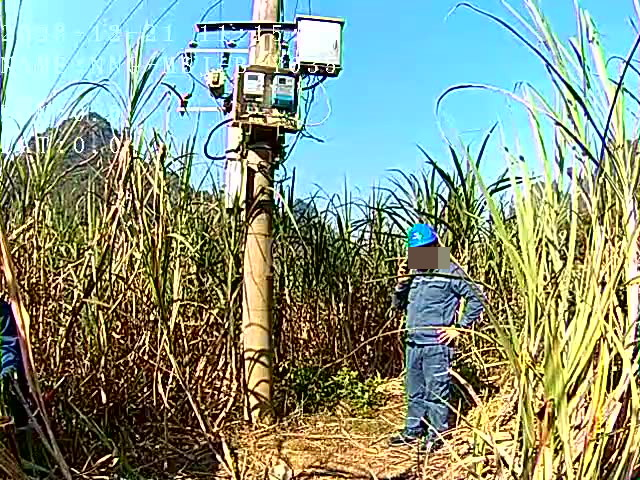downsuit: (405, 347, 456, 436)
halt: (406, 223, 442, 266)
hand: (438, 324, 460, 344)
person: (392, 220, 486, 443)
upsuit: (390, 258, 482, 338)
